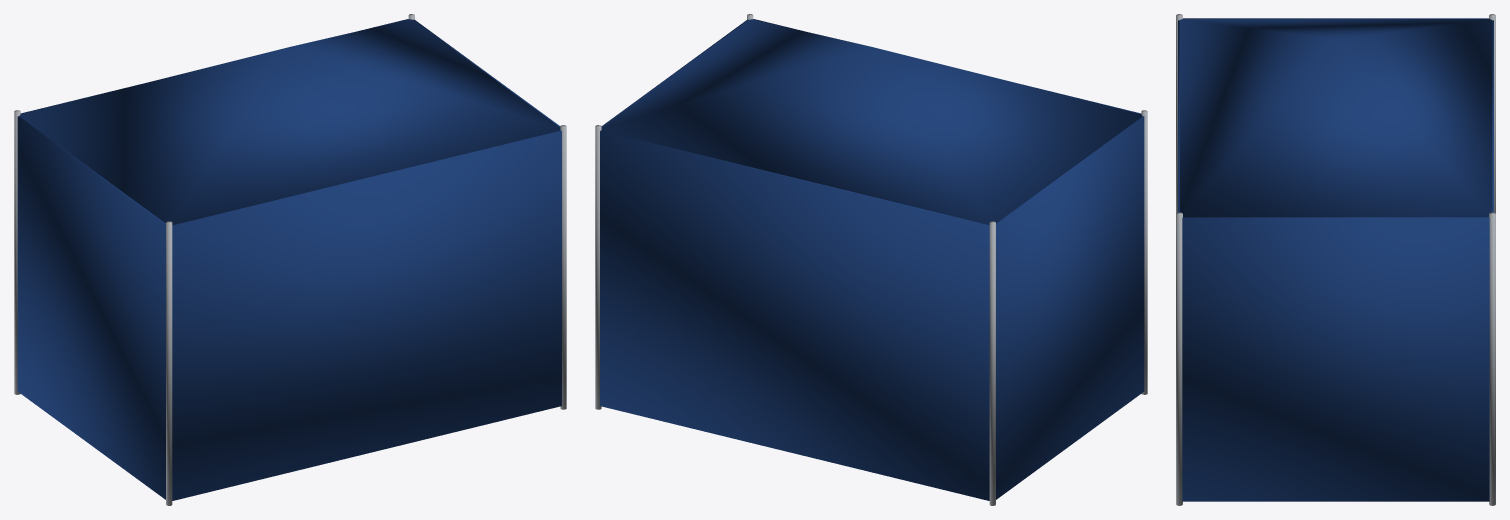
File: medical_tent.glb
The picture shows the model from 3 angles, left to right: view 1: azimuth 30°, elevation 25°; view 2: azimuth 150°, elevation 25°; view 3: azimuth 270°, elevation 25°; orthographic projection. The views are drawn at different scales.
Parts seen in each view (by area): view 1: medical_tent__tint_team_secondary, medical_tent__prop_steel; view 2: medical_tent__tint_team_secondary, medical_tent__prop_steel; view 3: medical_tent__tint_team_secondary, medical_tent__prop_steel.
Part boxes in pixels (x1=…): medical_tent__tint_team_secondary: x1=17, y1=19, x2=561, y2=500; medical_tent__prop_steel: x1=14, y1=14, x2=566, y2=505; medical_tent__tint_team_secondary: x1=600, y1=19, x2=1144, y2=500; medical_tent__prop_steel: x1=595, y1=14, x2=1147, y2=505; medical_tent__tint_team_secondary: x1=1178, y1=18, x2=1493, y2=501; medical_tent__prop_steel: x1=1176, y1=14, x2=1495, y2=505.
Bounding box in the file's own units: 3.04 × 2.57 × 2.04.
